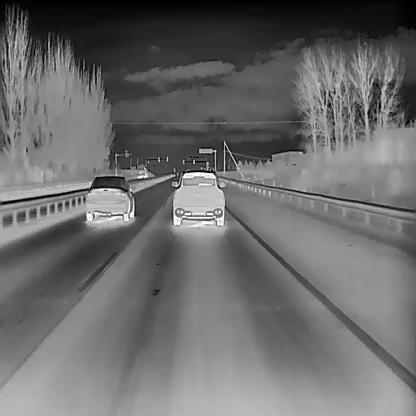car: (171, 166, 225, 226), (84, 174, 136, 220), (136, 162, 147, 179)
